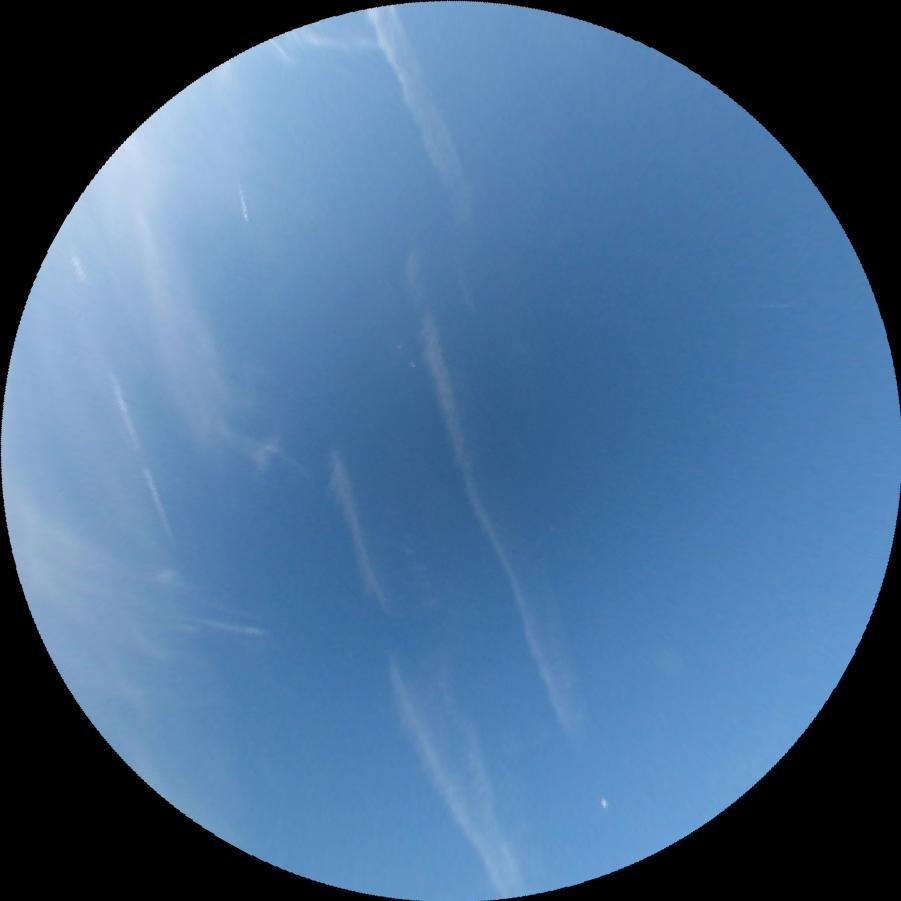contrail veryold: (405, 312, 571, 735), (377, 641, 543, 901), (362, 0, 486, 232), (316, 449, 394, 625)
contrail young: (228, 178, 250, 220), (744, 300, 794, 309)
